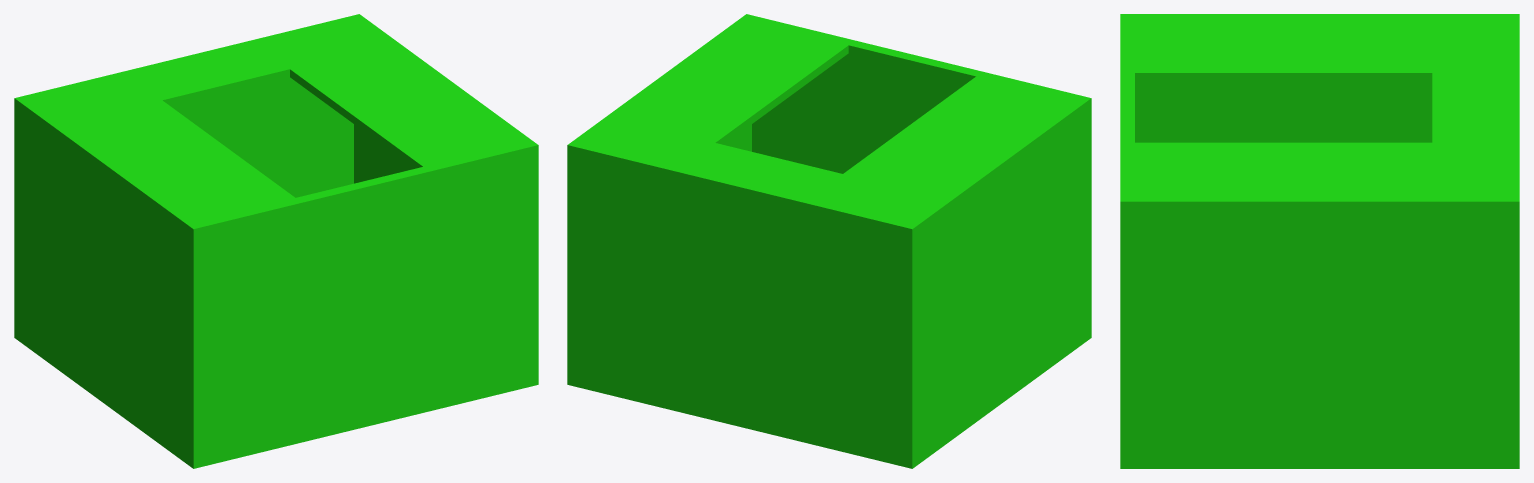
Rendered from changjing.glb.
3 renders of one model, left to right at view 1: azimuth 30°, elevation 25°; view 2: azimuth 150°, elevation 25°; view 3: azimuth 270°, elevation 25°, orthographic. The views are drawn at different scales.
Parts seen in each view (by area): view 1: Cube; view 2: Cube; view 3: Cube.
Boxes of the visible parts, x1,y1,x2,y2 form: Cube: (14,14,538,468); Cube: (567,14,1091,468); Cube: (1120,14,1519,468).
Size of the model in its own units: 7.41 by 4.92 by 6.66.
